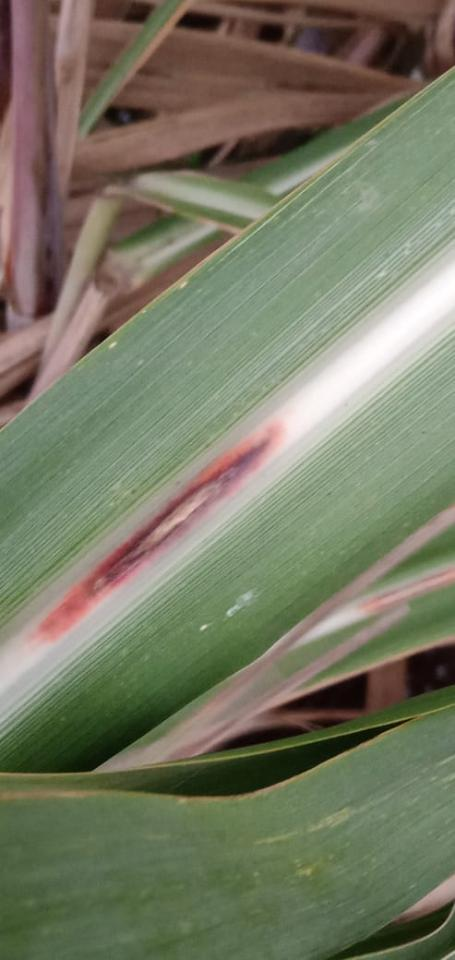RedRot: (27, 420, 286, 643)
